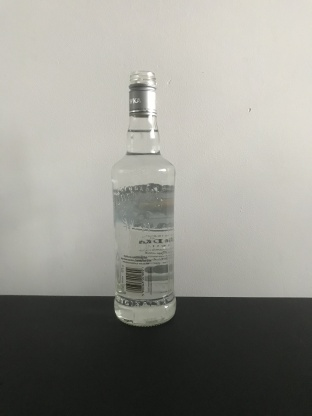nakretka: (126, 69, 159, 118)
